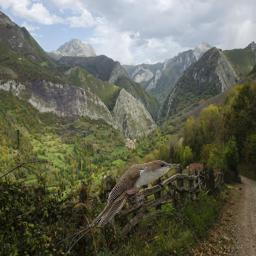Cuckoo: (89, 160, 179, 227)
